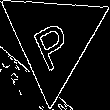P_NW: (28, 8, 79, 70)
